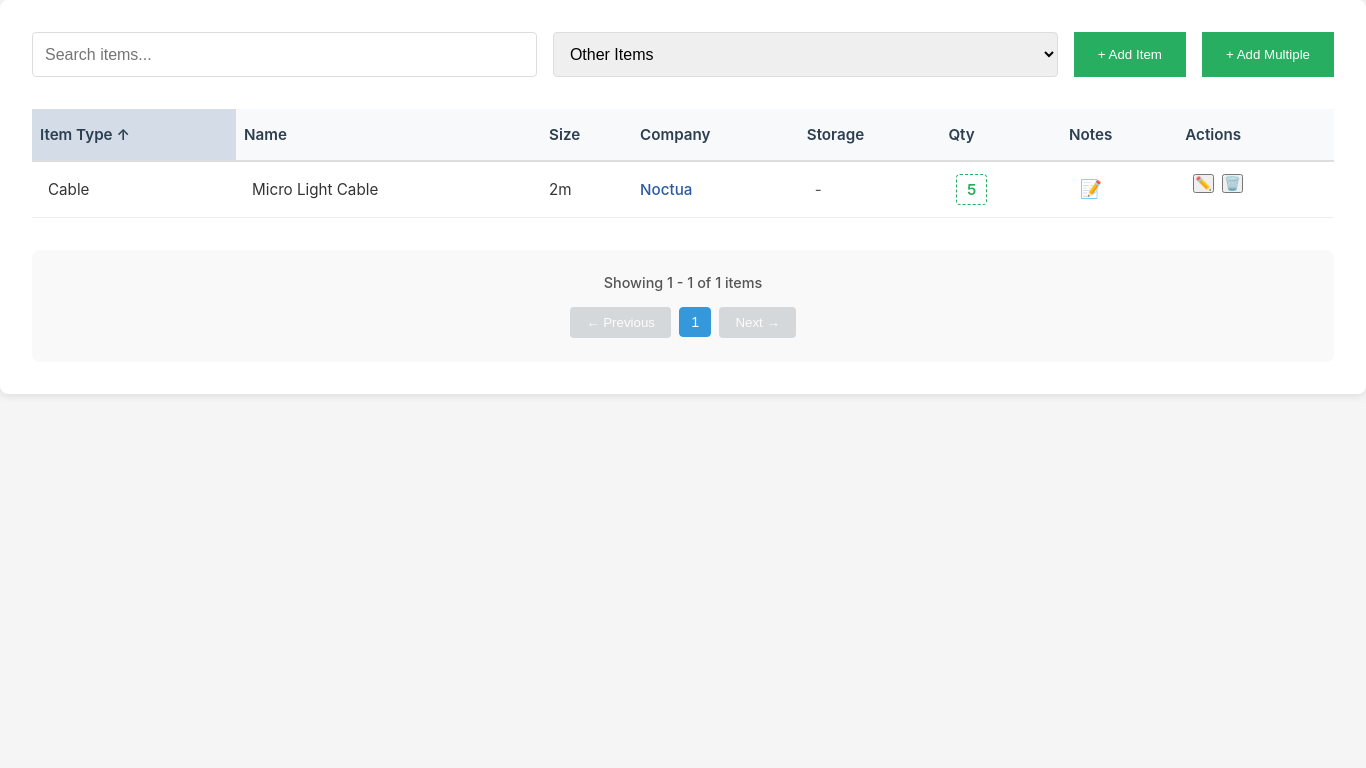
Test: editing an Other Item › selects the Other Items category and fills the type, name, size and company fields
The width and height of the screenshot is (1366, 768).
Click the button titled "Edit". click: {"x": 1204, "y": 184}
box: [1193,174,1214,193]
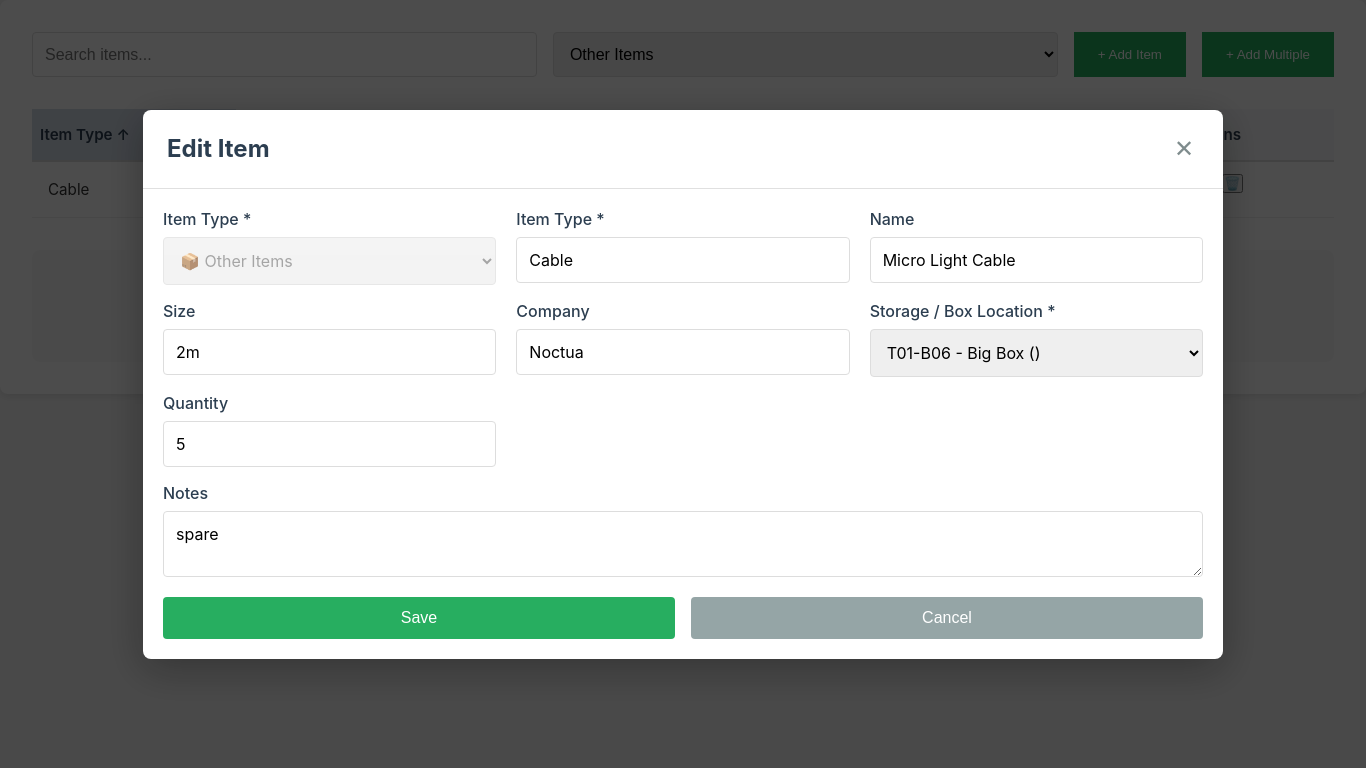
Result: the 1st dropdown shows "📦 Other Items" at [163,236,496,284]
